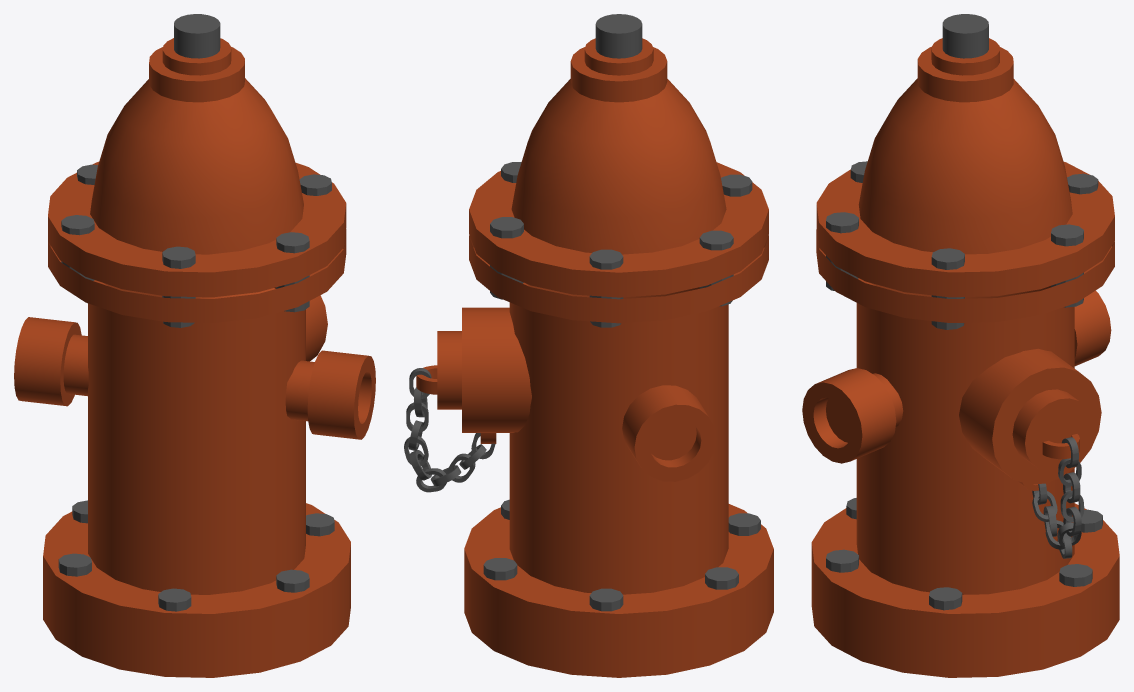
Rendered from Fire_Hidrant_Mesh.fbx.
The picture shows the model from 3 angles, left to right: view 1: azimuth 30°, elevation 25°; view 2: azimuth 150°, elevation 25°; view 3: azimuth 270°, elevation 25°; orthographic projection.
Visible parts, largest first — view 1: Fire_Hydrant_Mesh; view 2: Fire_Hydrant_Mesh; view 3: Fire_Hydrant_Mesh.
Boxes of the visible parts, x1=… form: Fire_Hydrant_Mesh: x1=14, y1=14, x2=375, y2=677; Fire_Hydrant_Mesh: x1=404, y1=14, x2=773, y2=677; Fire_Hydrant_Mesh: x1=802, y1=14, x2=1119, y2=677.
Size of the model in its own units: 1.2 by 2.25 by 1.1.
